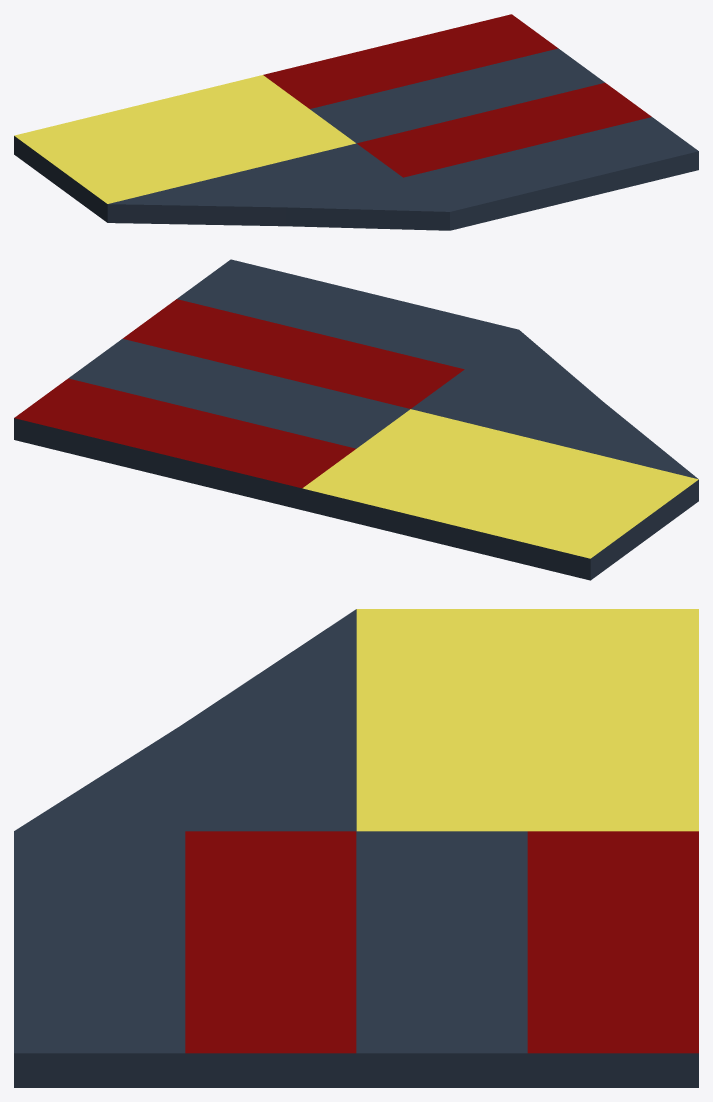
The model's file is electronickey.glb.
3 renders of one model, top to bottom at view 1: azimuth 30°, elevation 25°; view 2: azimuth 150°, elevation 25°; view 3: azimuth 270°, elevation 25°, orthographic. The views are drawn at different scales.
Visible parts, largest first — view 1: Cube; view 2: Cube; view 3: Cube.
Part boxes in pixels (left/top/right/bottom): Cube: left=14, top=14, right=698, bottom=230; Cube: left=14, top=259, right=698, bottom=580; Cube: left=14, top=609, right=698, bottom=1087.
Size of the model in its own units: 3.07 by 0.1112 by 2.
1 material, 1 textured.
